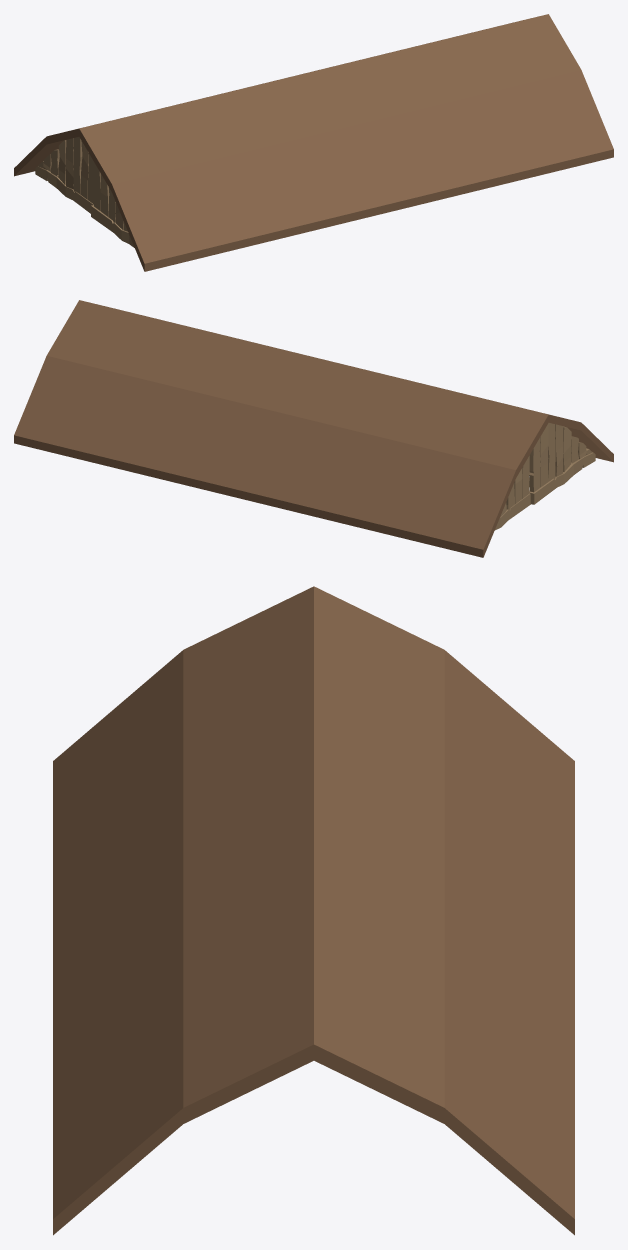
File: Longhouse Roof GADE.fbx
The picture shows the model from 3 angles, top to bottom: view 1: azimuth 30°, elevation 25°; view 2: azimuth 150°, elevation 25°; view 3: azimuth 270°, elevation 25°; orthographic projection. The views are drawn at different scales.
Visible parts, largest first — view 1: Cube, Cube.417; view 2: Cube, Cube.417; view 3: Cube.
Boxes of the visible parts, left/top/right/bottom form: Cube: left=14, top=14, right=613, bottom=271; Cube.417: left=35, top=137, right=134, bottom=247; Cube: left=14, top=300, right=613, bottom=557; Cube.417: left=495, top=423, right=595, bottom=530; Cube: left=53, top=586, right=574, bottom=1235.
Bounding box in the file's own units: 4808 × 936 × 2316.
